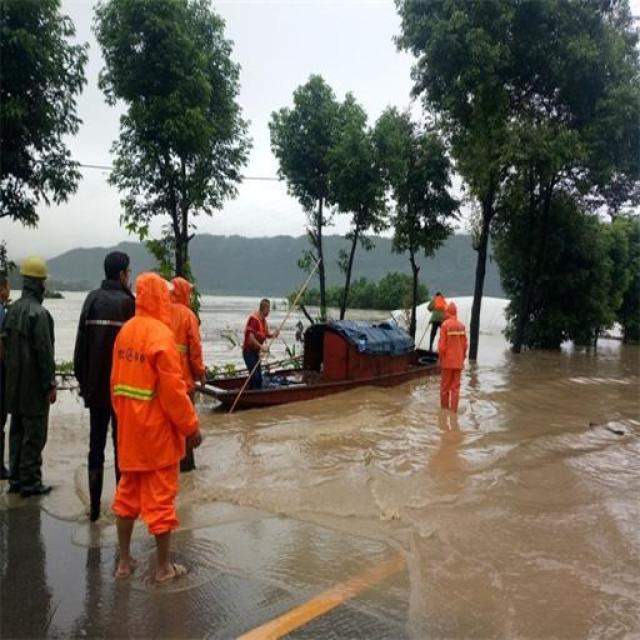rescuer: (106, 267, 204, 605), (428, 297, 484, 426)
